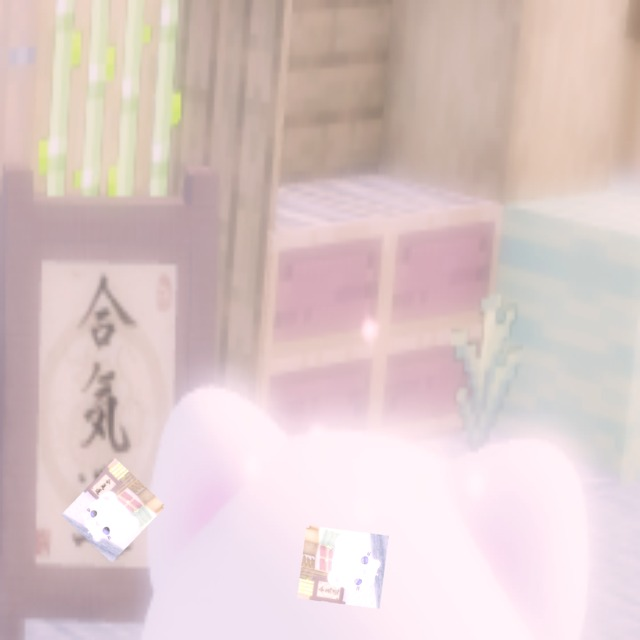urso_branco: (61, 458, 166, 563), (297, 525, 389, 609)
